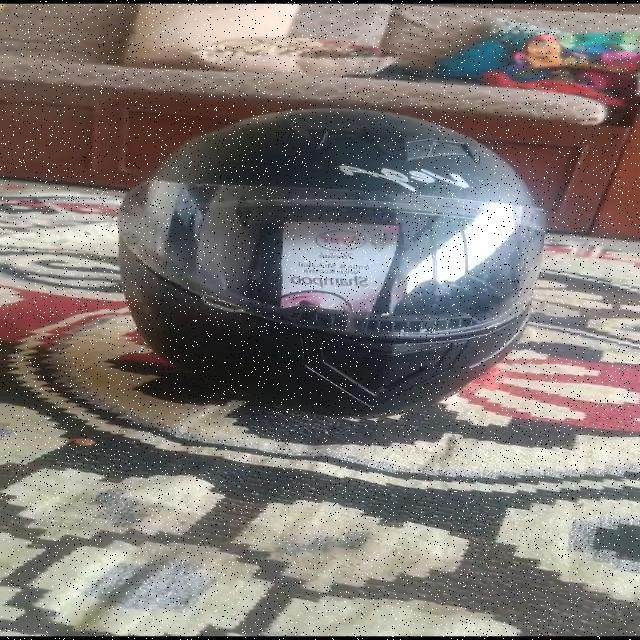Helmet: (116, 108, 548, 411)
